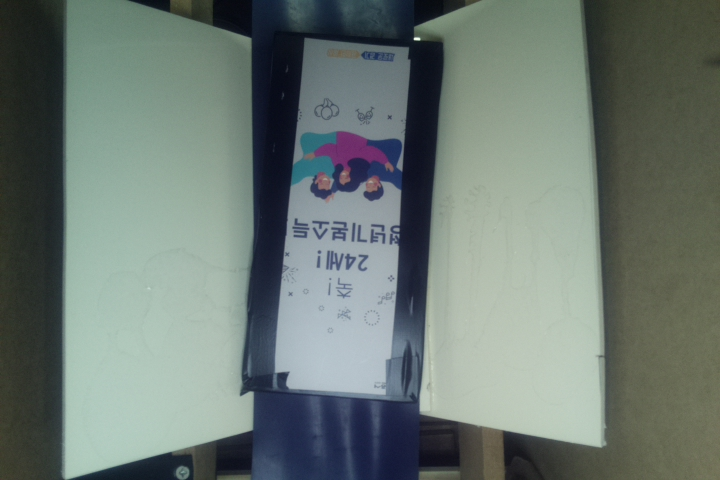book: (239, 31, 448, 403)
